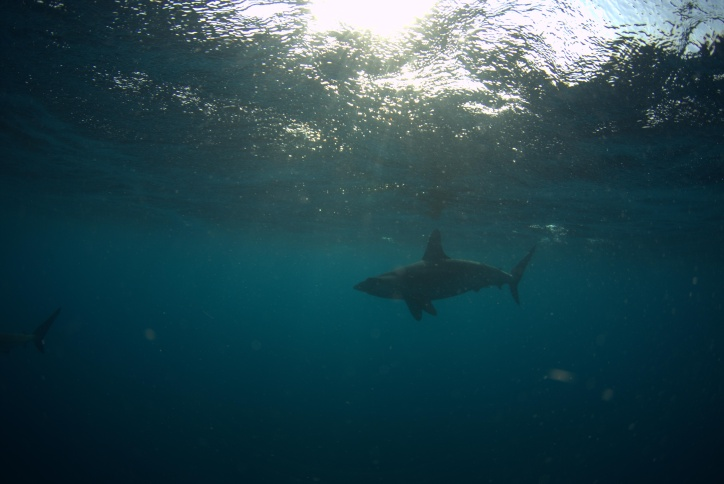Hammer: (332, 209, 548, 345)
